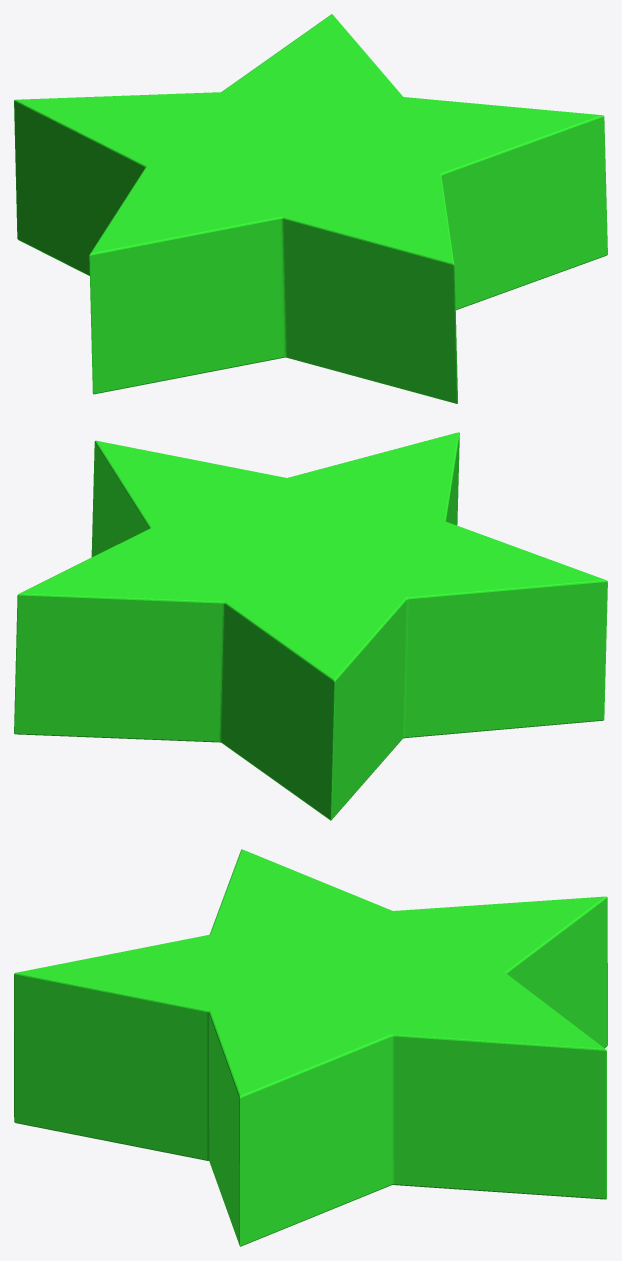
File: Star.obj
3 views of the same model, one above another, from view 1: azimuth 30°, elevation 25°; view 2: azimuth 150°, elevation 25°; view 3: azimuth 270°, elevation 25° (orthographic). The views are drawn at different scales.
Visible parts, largest first — view 1: Star; view 2: Star; view 3: Star.
Part boxes in pixels (bbox=[...]): Star: bbox=[14, 14, 607, 403]; Star: bbox=[14, 432, 607, 820]; Star: bbox=[14, 849, 607, 1246].
Size of the model in its own units: 1.01 by 0.29 by 0.9526.
